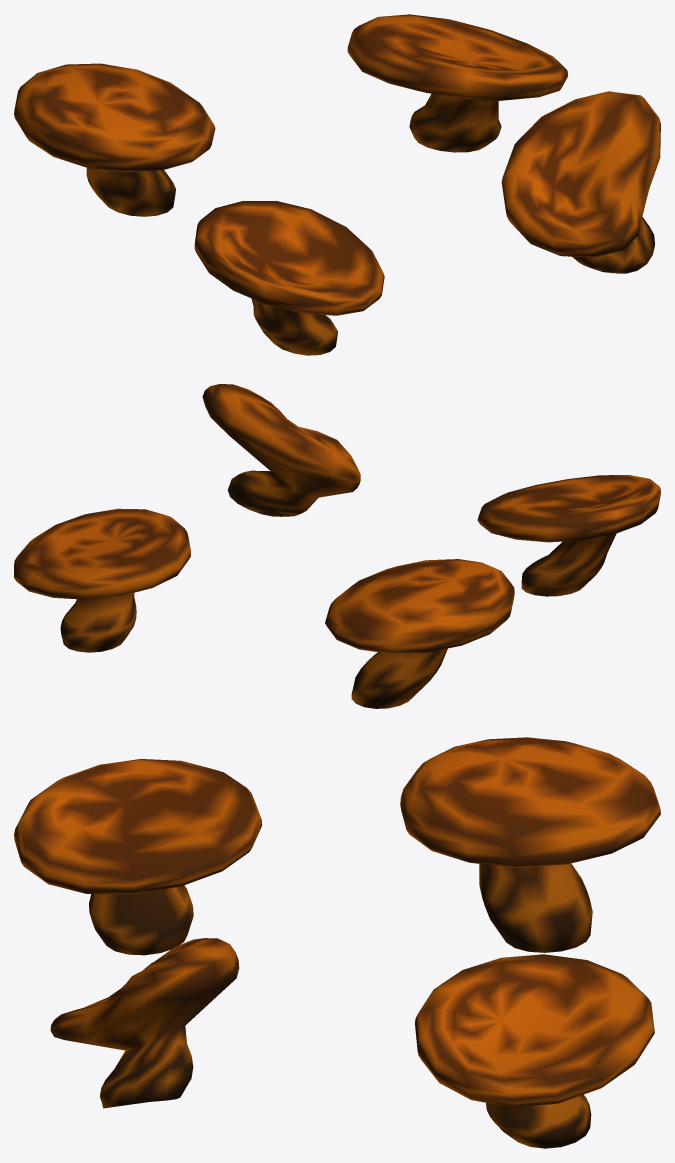
File: Farm_Crop_Mashroom_01_Dead.glb
3 renders of one model, top to bottom at view 1: azimuth 30°, elevation 25°; view 2: azimuth 150°, elevation 25°; view 3: azimuth 270°, elevation 25°, orthographic. The views are drawn at different scales.
Parts seen in each view (by area): view 1: Farm_Crop_Mashroom_01_Dead; view 2: Farm_Crop_Mashroom_01_Dead; view 3: Farm_Crop_Mashroom_01_Dead.
Part boxes in pixels (left/top/right/bottom): Farm_Crop_Mashroom_01_Dead: left=14, top=14, right=660, bottom=355; Farm_Crop_Mashroom_01_Dead: left=14, top=384, right=660, bottom=708; Farm_Crop_Mashroom_01_Dead: left=14, top=737, right=660, bottom=1148.
Bounding box in the file's own units: 1.65 × 0.48 × 1.55.
Materials: 1 (1 with a texture image).
